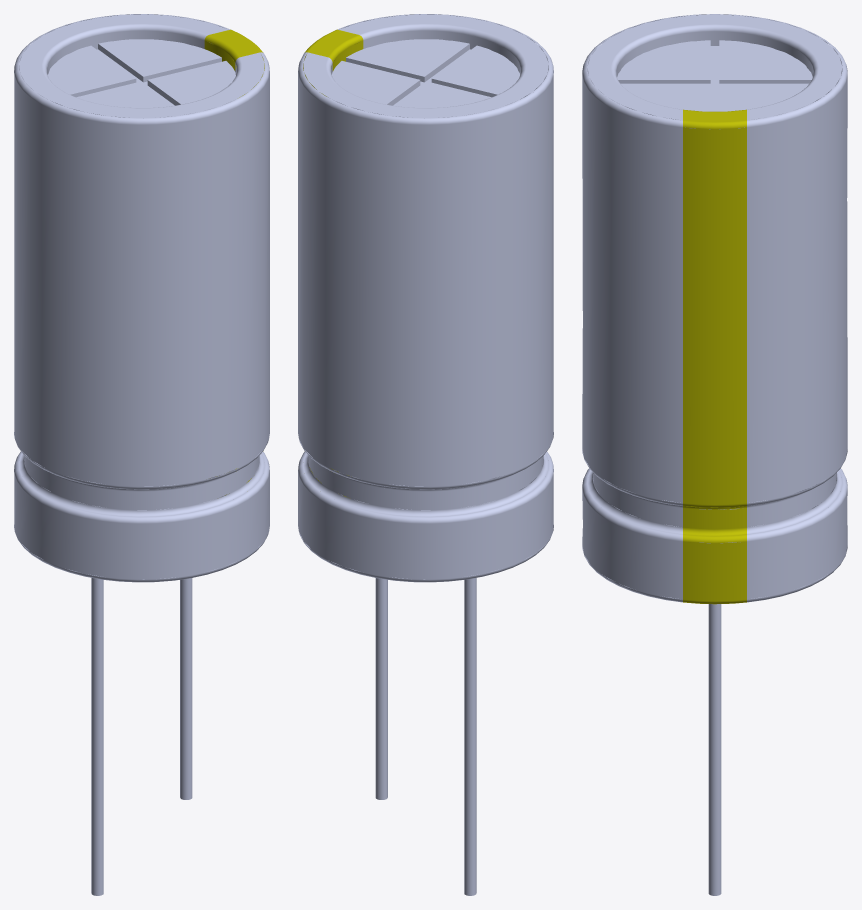
File: tudienphancuc.glb
3 views of the same model, side by side, from view 1: azimuth 30°, elevation 25°; view 2: azimuth 150°, elevation 25°; view 3: azimuth 270°, elevation 25° (orthographic). The views are drawn at different scales.
Parts seen in each view (by area): view 1: mesh-0; view 2: mesh-0; view 3: mesh-0.
Part boxes in pixels (x1=…): mesh-0: x1=14, y1=14, x2=269, y2=895; mesh-0: x1=298, y1=14, x2=553, y2=895; mesh-0: x1=582, y1=14, x2=847, y2=895.
Size of the model in its own units: 12.5 by 44 by 12.5.
